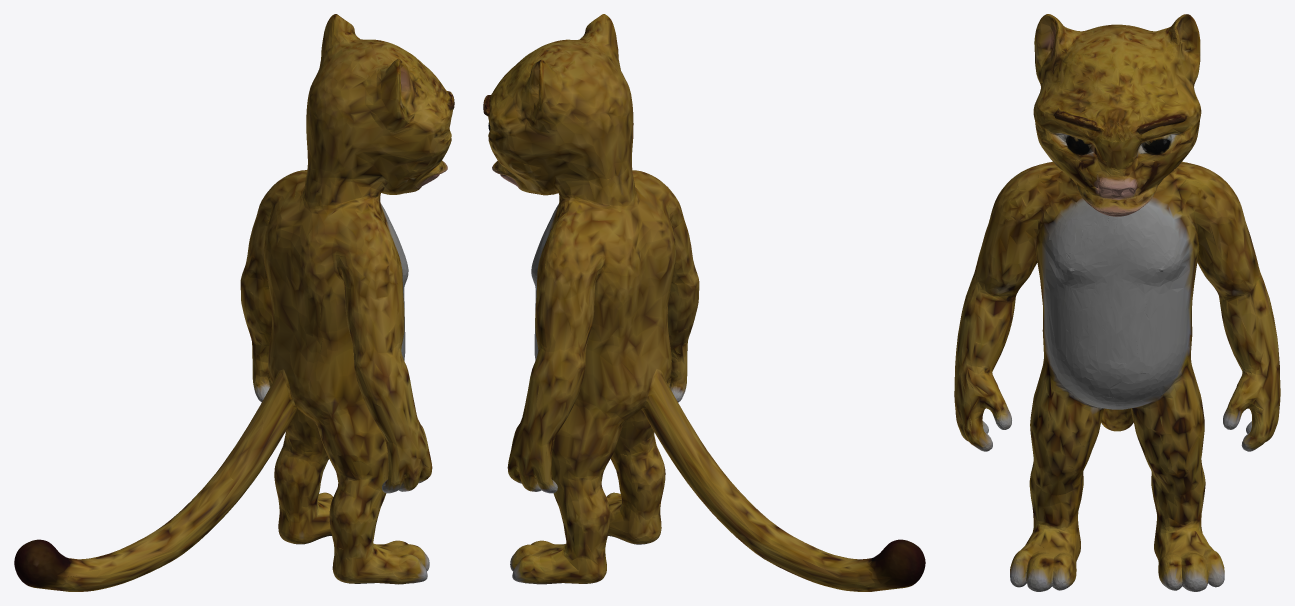
The model's file is baola.glb.
The picture shows the model from 3 angles, left to right: view 1: azimuth 30°, elevation 25°; view 2: azimuth 150°, elevation 25°; view 3: azimuth 270°, elevation 25°; orthographic projection. The views are drawn at different scales.
Visible parts, largest first — view 1: baola; view 2: baola; view 3: baola.
Part boxes in pixels (<box>): baola: <box>14,14,454,591</box>; baola: <box>483,14,925,591</box>; baola: <box>954,14,1280,591</box>.
Bounding box in the file's own units: 0.8522 × 0.979 × 0.5093.
